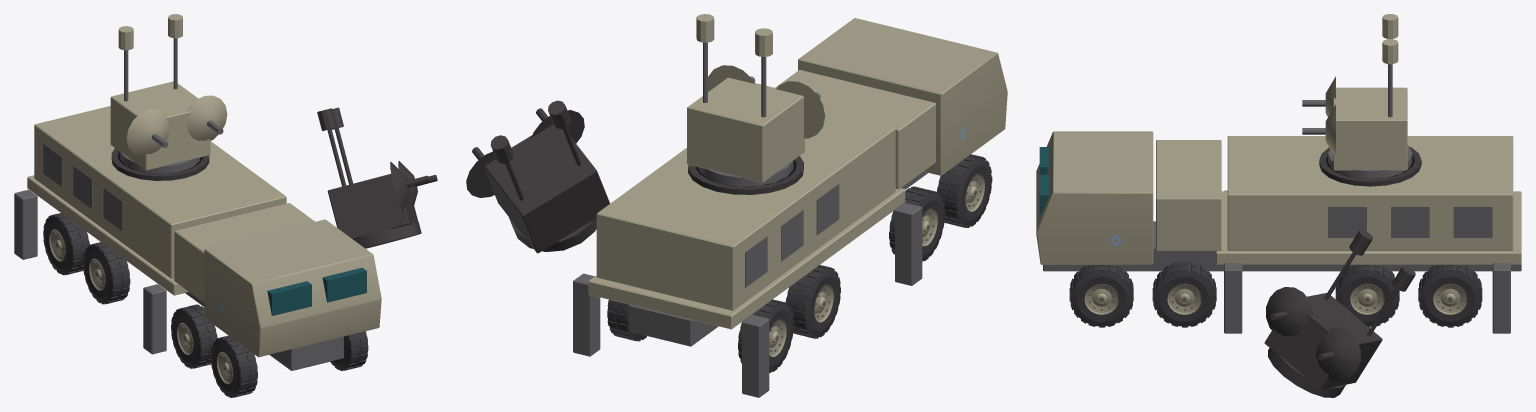
The model's file is ewVehicle__koral.glb.
3 renders of one model, left to right at view 1: azimuth 30°, elevation 25°; view 2: azimuth 150°, elevation 25°; view 3: azimuth 270°, elevation 25°, orthographic. The views are drawn at different scales.
Parts seen in each view (by area): view 1: Hull_Mesh, Wreck, Turret_Mesh, Gun_Mesh, Wheel_L3_Mesh, Wheel_L1_Mesh, Wheel_L2_Mesh, Wheel_L0_Mesh, Wheel_R3_Mesh; view 2: Hull_Mesh, Wreck, Turret_Mesh, Wheel_L1_Mesh, Wheel_L3_Mesh, Wheel_L2_Mesh, Gun_Mesh, Wheel_L0_Mesh, Wheel_R0_Mesh; view 3: Hull_Mesh, Wreck, Turret_Mesh, Wheel_R2_Mesh, Wheel_R0_Mesh, Wheel_R3_Mesh, Wheel_R1_Mesh, Gun_Mesh.
Boxes of the visible parts, left/top/right/bottom form: Hull_Mesh: left=14, top=106, right=381, bottom=370; Wreck: left=57, top=107, right=437, bottom=397; Turret_Mesh: left=110, top=14, right=210, bottom=173; Gun_Mesh: left=126, top=95, right=227, bottom=157; Wheel_L3_Mesh: left=210, top=335, right=257, bottom=397; Wheel_L1_Mesh: left=83, top=242, right=130, bottom=304; Wheel_L2_Mesh: left=171, top=304, right=217, bottom=368; Wheel_L0_Mesh: left=43, top=213, right=89, bottom=275; Wheel_R3_Mesh: left=330, top=331, right=368, bottom=370; Hull_Mesh: left=573, top=18, right=1007, bottom=397; Wreck: left=466, top=100, right=968, bottom=370; Turret_Mesh: left=687, top=14, right=804, bottom=186; Wheel_L1_Mesh: left=785, top=265, right=840, bottom=338; Wheel_L3_Mesh: left=937, top=154, right=992, bottom=227; Wheel_L2_Mesh: left=889, top=186, right=944, bottom=261; Gun_Mesh: left=708, top=65, right=825, bottom=138; Wheel_L0_Mesh: left=738, top=299, right=793, bottom=372; Wheel_R0_Mesh: left=607, top=299, right=646, bottom=341; Hull_Mesh: left=1036, top=131, right=1521, bottom=333; Wreck: left=1109, top=146, right=1459, bottom=397; Turret_Mesh: left=1328, top=14, right=1412, bottom=179; Wheel_R2_Mesh: left=1152, top=261, right=1216, bottom=327; Wheel_R0_Mesh: left=1418, top=265, right=1482, bottom=327; Wheel_R3_Mesh: left=1069, top=265, right=1133, bottom=327; Wheel_R1_Mesh: left=1335, top=265, right=1399, bottom=327; Gun_Mesh: left=1302, top=76, right=1335, bottom=157.
Size of what is drawn, in the model's own units: 7 by 5.13 by 8.5.
